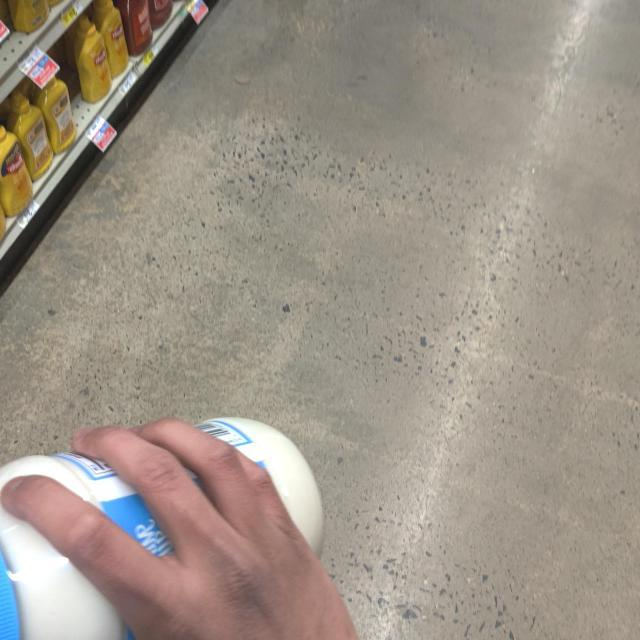Sauce: (1, 406, 352, 640)
